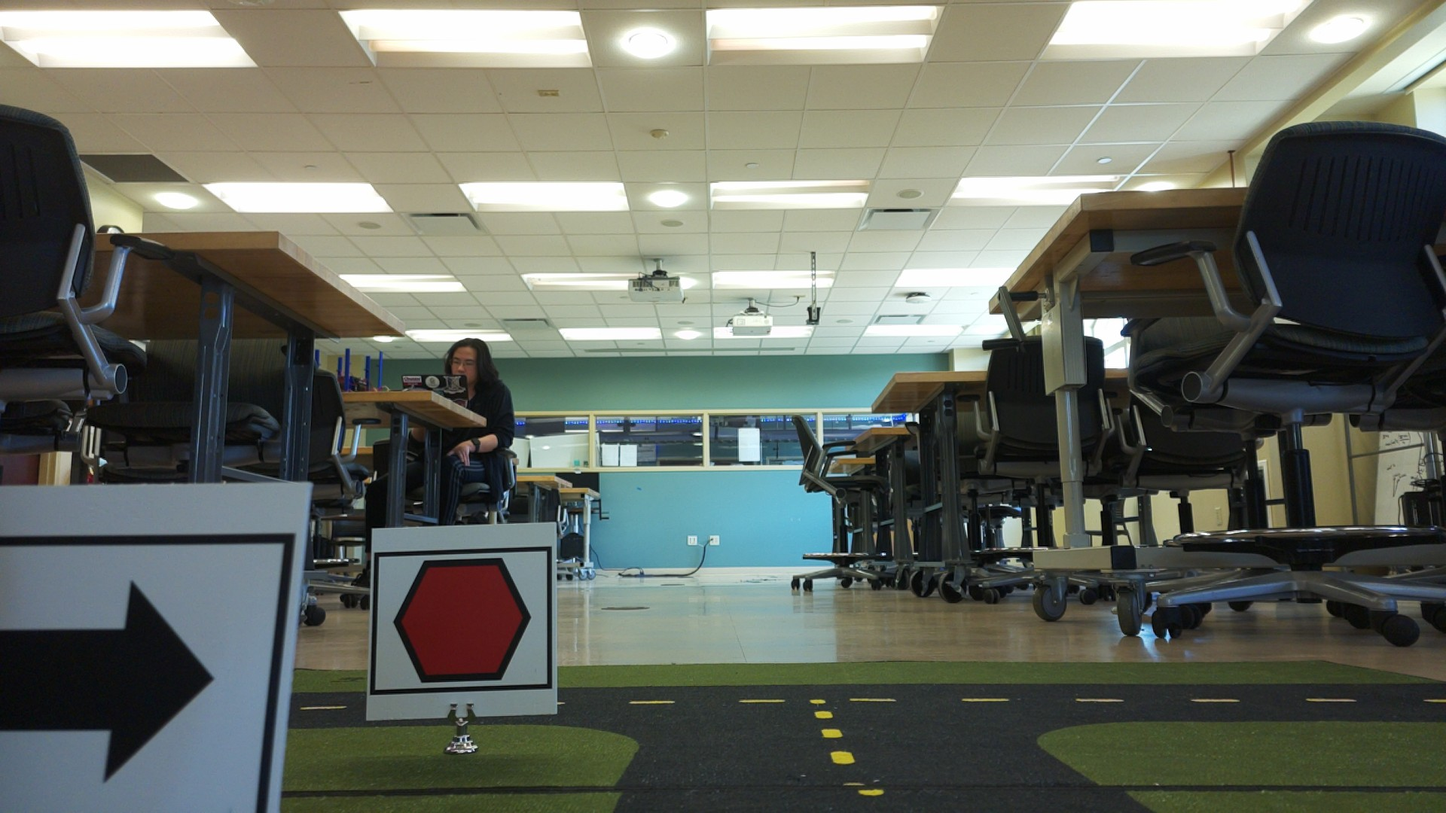stop: (374, 556, 551, 693)
turnright: (1, 545, 261, 811)
yellowline: (815, 706, 853, 767)
